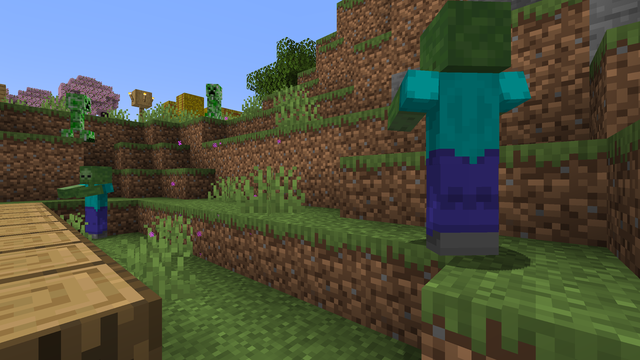creepers: (66, 89, 91, 142), (203, 80, 223, 116)
zombies: (413, 1, 505, 267), (80, 167, 112, 239)
